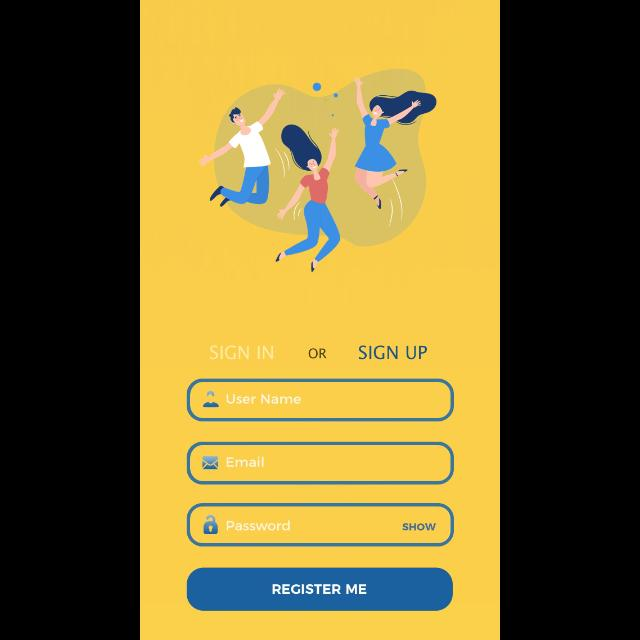icon: (204, 515, 218, 535), (203, 391, 219, 407), (203, 456, 219, 470)
image: (199, 70, 437, 272)
input: (188, 378, 454, 422), (188, 442, 454, 484), (188, 504, 454, 546)
text: (358, 346, 428, 360), (210, 346, 274, 360), (228, 394, 302, 404), (226, 521, 290, 531), (228, 457, 264, 468), (308, 349, 328, 359)
textbutton: (186, 568, 454, 610)
